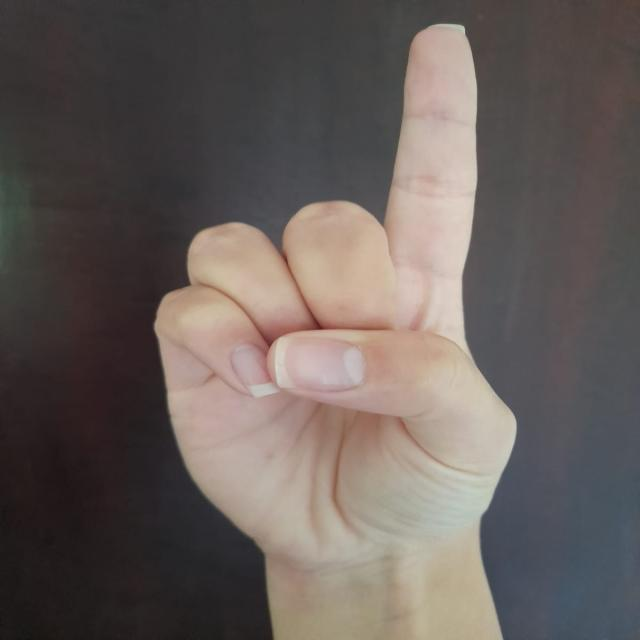D2: (101, 6, 587, 578)
